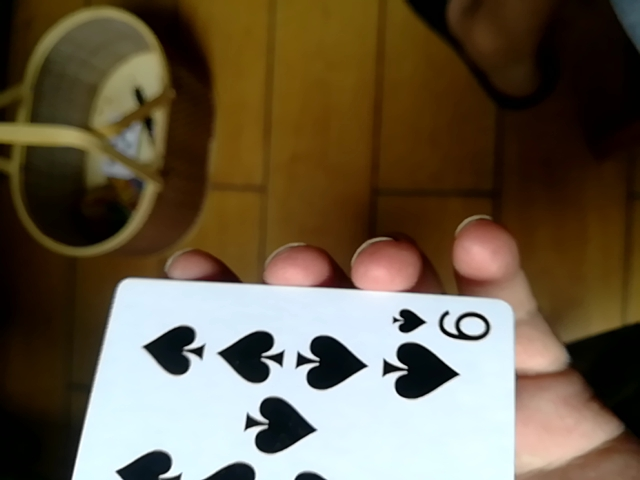ht 9: (69, 277, 528, 480)
